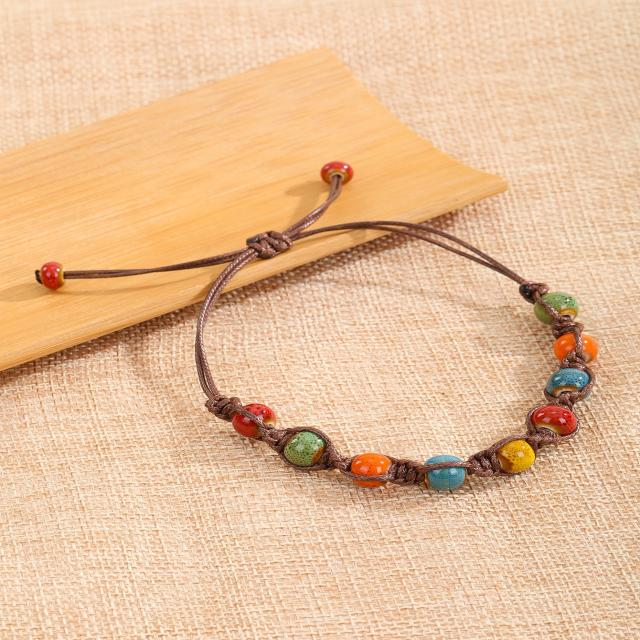bracelet: (0, 115, 640, 526)
